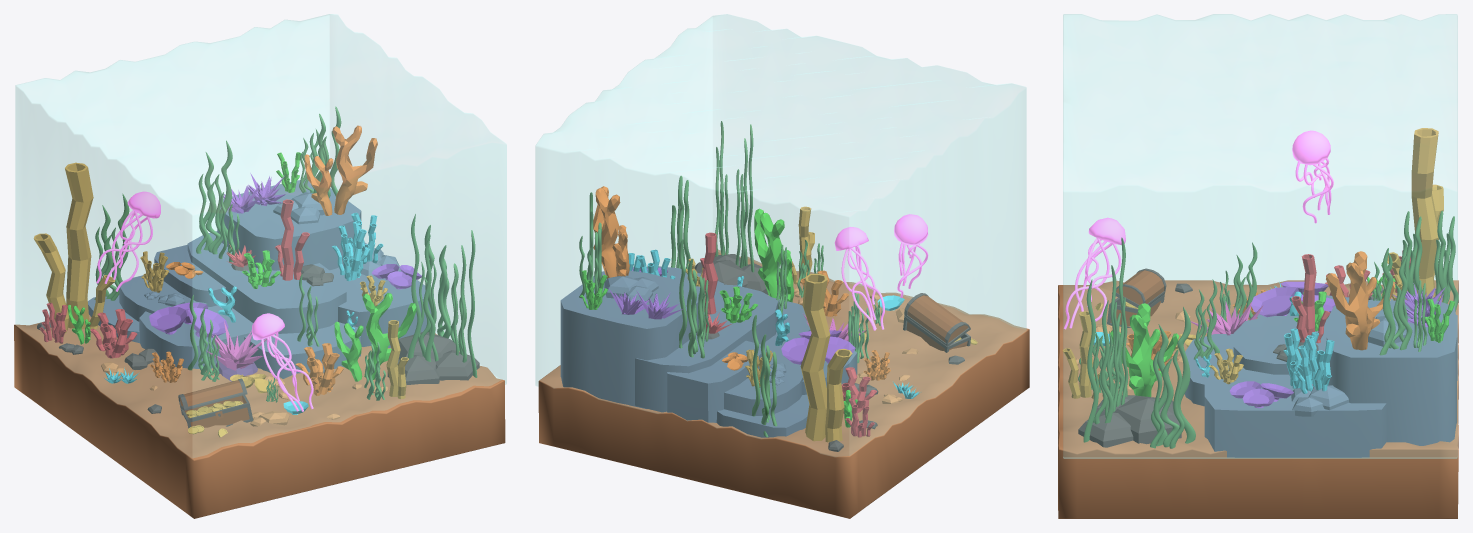
File: CoralReef.glb
3 views of the same model, side by side, from view 1: azimuth 30°, elevation 25°; view 2: azimuth 150°, elevation 25°; view 3: azimuth 270°, elevation 25° (orthographic). The views are drawn at different scales.
Parts seen in each view (by area): view 1: Sea, Sand, Cube.002, Cube.001, Cylinder.003, Plane.017, Plane.002, Plane.003, Cylinder.001, Cylinder.008, Plane.010, Plane.005 (+27 smaller); view 2: Sea, Sand, Cube.002, Cube.001, Cylinder.003, Plane.017, Cylinder.008, Plane.003, Plane.002, Cylinder.001, Plane.006, BezierCurve.001 (+17 smaller); view 3: Sea, Sand, Cube.002, Cylinder.003, Plane.005, Cylinder.001, Plane.010, Plane.002, Cylinder.008, Plane.017, Plane.013, Icosphere.002 (+23 smaller).
Boxes of the visible parts, <box> form: Sea: <box>15,14,506,457</box>; Sand: <box>14,315,505,518</box>; Cube.002: <box>187,180,433,378</box>; Cube.001: <box>88,244,253,368</box>; Cylinder.003: <box>33,162,115,333</box>; Plane.017: <box>178,378,253,428</box>; Plane.002: <box>408,214,438,361</box>; Plane.003: <box>196,140,232,254</box>; Cylinder.001: <box>332,125,377,214</box>; Cylinder.008: <box>362,293,416,379</box>; Plane.010: <box>453,230,477,377</box>; Plane.005: <box>424,225,459,351</box>; Sea: <box>535,14,1026,456</box>; Sand: <box>538,249,1029,518</box>; Cube.002: <box>560,266,810,412</box>; Cube.001: <box>667,332,857,437</box>; Cylinder.003: <box>800,273,852,442</box>; Plane.017: <box>903,293,970,352</box>; Cylinder.008: <box>754,208,784,299</box>; Plane.003: <box>678,239,704,358</box>; Plane.002: <box>735,124,754,272</box>; Cylinder.001: <box>593,186,620,278</box>; Plane.006: <box>752,315,777,437</box>; BezierCurve.001: <box>841,246,884,330</box>; Sea: <box>1063,14,1457,458</box>; Sand: <box>1058,280,1458,518</box>; Cube.002: <box>1184,300,1456,457</box>; Cylinder.003: <box>1387,128,1443,297</box>; Plane.005: <box>1150,307,1195,448</box>; Cylinder.001: <box>1326,251,1367,350</box>; Plane.010: <box>1083,279,1113,442</box>; Plane.002: <box>1109,237,1128,412</box>; Cylinder.008: <box>1109,303,1151,396</box>; Plane.017: <box>1107,268,1166,327</box>; Plane.013: <box>1379,248,1412,355</box>; Icosphere.002: <box>1114,395,1181,444</box>.
Size of the model in its own units: 1.52 by 1.39 by 1.5.
